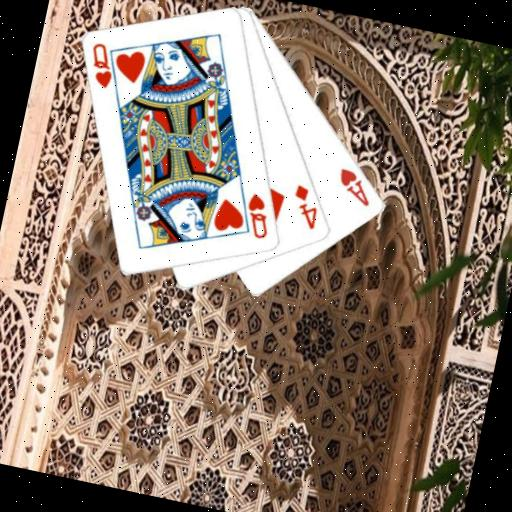4D: (285, 180, 325, 232)
AH: (331, 164, 378, 209)
QH: (81, 38, 129, 95), (238, 189, 278, 243)
